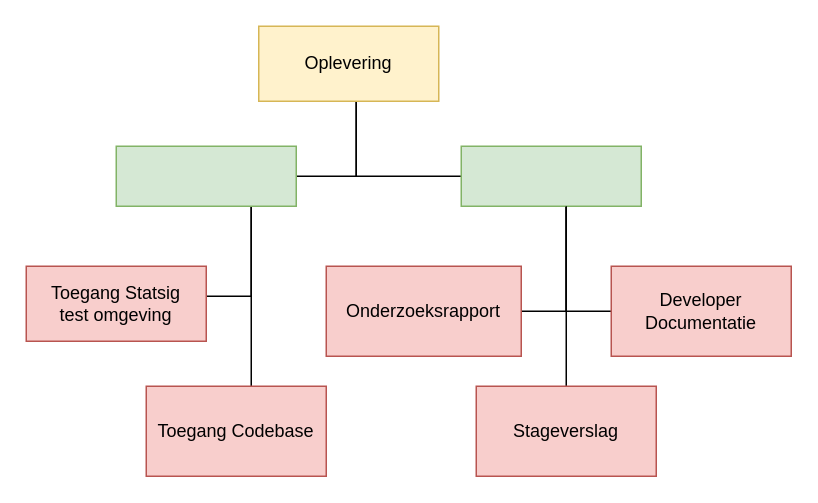
The diagram is 818 pixels wide and 503 high, and some of its shapes have lost their labels. Each missing label, with the centre of its shape:
"A/B test systeem" goes at (x=205, y=175).
"Documentatie" goes at (x=550, y=175).
